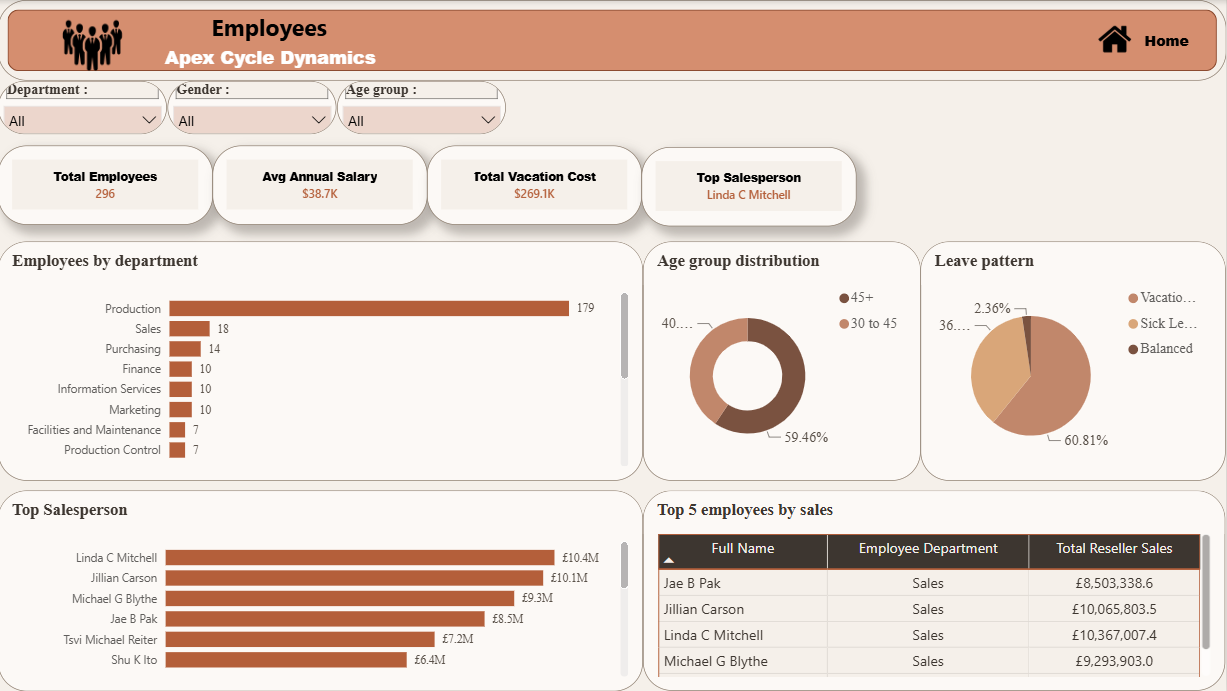

Layout of this report page (visuals, bound fields, positions):
{"tool":"powerbi","page":{"name":"Employees","canvas":[1280,720],"ordinal":4},"visuals":[{"type":"shape","box":[0,0,1280,84],"z":0},{"type":"textbox","box":[88,6,390,62],"z":1000},{"type":"textbox","title":"Apex Cycle Dynamics","box":[131.2,41.2,304.7,42.1],"z":2000},{"type":"image","box":[1126,22.9,76.8,34.5],"z":3000},{"type":"textbox","box":[1180.9,26,72.3,42.6],"z":4000},{"type":"image","box":[0,15,196.3,63.2],"z":5000},{"type":"slicer","fields":{"Values":["DimDepartmentGroup.DepartmentGroupName"]},"box":[0,84.4,176.2,55],"z":6000},{"type":"slicer","fields":{"Values":["DimEmployee.Gender"]},"box":[176.6,84.4,176.2,55],"z":7000},{"type":"slicer","fields":{"Values":["DimEmployee.Age Group"]},"box":[353.2,84.4,176.2,55],"z":8000},{"type":"cardVisual","title":"Total sales","fields":{"Data":["DimEmployee.Total Employees"]},"box":[0,151.2,224.3,82.9],"z":8001},{"type":"cardVisual","title":"Total sales","fields":{"Data":["DimEmployee.Avg Annual Salary"]},"box":[223.5,151.6,224.3,82.9],"z":8002},{"type":"cardVisual","title":"Total sales","fields":{"Data":["DimEmployee.Total Vacation Cost"]},"box":[447,151.6,224.3,82.9],"z":8003},{"type":"cardVisual","title":"Total sales","fields":{"Data":["DimEmployee.Top Salesperson"]},"box":[670.5,153.2,224.3,82.9],"z":8004},{"type":"clusteredBarChart","title":"Employees by department","fields":{"Y":["DimEmployee.Employee Count"],"Category":["DimEmployee.Employee Department"]},"box":[0,251.2,672.2,249.6],"z":8005},{"type":"clusteredBarChart","title":"Top Salesperson","fields":{"Category":["DimEmployee.Full Name"],"Y":["FactResellerSales.Total Reseller Sales"]},"box":[0,511,672,209],"z":8006},{"type":"donutChart","title":"Age group distribution","fields":{"Category":["DimEmployee.Age Group"],"Y":["DimEmployee.Employee Count"]},"box":[672.2,251.2,289.5,249.6],"z":8007},{"type":"pieChart","title":"Leave pattern","fields":{"Category":["DimEmployee.Leave Pattern"],"Y":["DimEmployee.Employee Count"]},"box":[961.7,251.2,317.8,249.6],"z":8008},{"type":"tableEx","title":"Top 5 employees by sales","fields":{"Values":["DimEmployee.Full Name","DimEmployee.Employee Department","FactResellerSales.Total Reseller Sales"]},"box":[672.6,510.9,606.7,208.6],"z":8009}]}

Visuals, with their boxes in screenshot pixels (x1, y1, x2, y2), scaled from the page's 1280x720 canvas onto the 1227x691 screenshot:
shape: (0,0,1226,81)
textbox: (84,6,458,65)
"Apex Cycle Dynamics" textbox: (126,40,418,80)
image: (1079,22,1153,55)
textbox: (1132,25,1201,66)
image: (0,14,188,75)
slicer - DimDepartmentGroup.DepartmentGroupName: (0,81,169,134)
slicer - DimEmployee.Gender: (169,81,338,134)
slicer - DimEmployee.Age Group: (339,81,507,134)
"Total sales" cardVisual: (0,145,215,225)
"Total sales" cardVisual: (214,145,429,225)
"Total sales" cardVisual: (428,145,644,225)
"Total sales" cardVisual: (643,147,858,227)
"Employees by department" clusteredBarChart: (0,241,644,481)
"Top Salesperson" clusteredBarChart: (0,490,644,690)
"Age group distribution" donutChart: (644,241,922,481)
"Leave pattern" pieChart: (922,241,1226,481)
"Top 5 employees by sales" tableEx: (645,490,1226,690)
